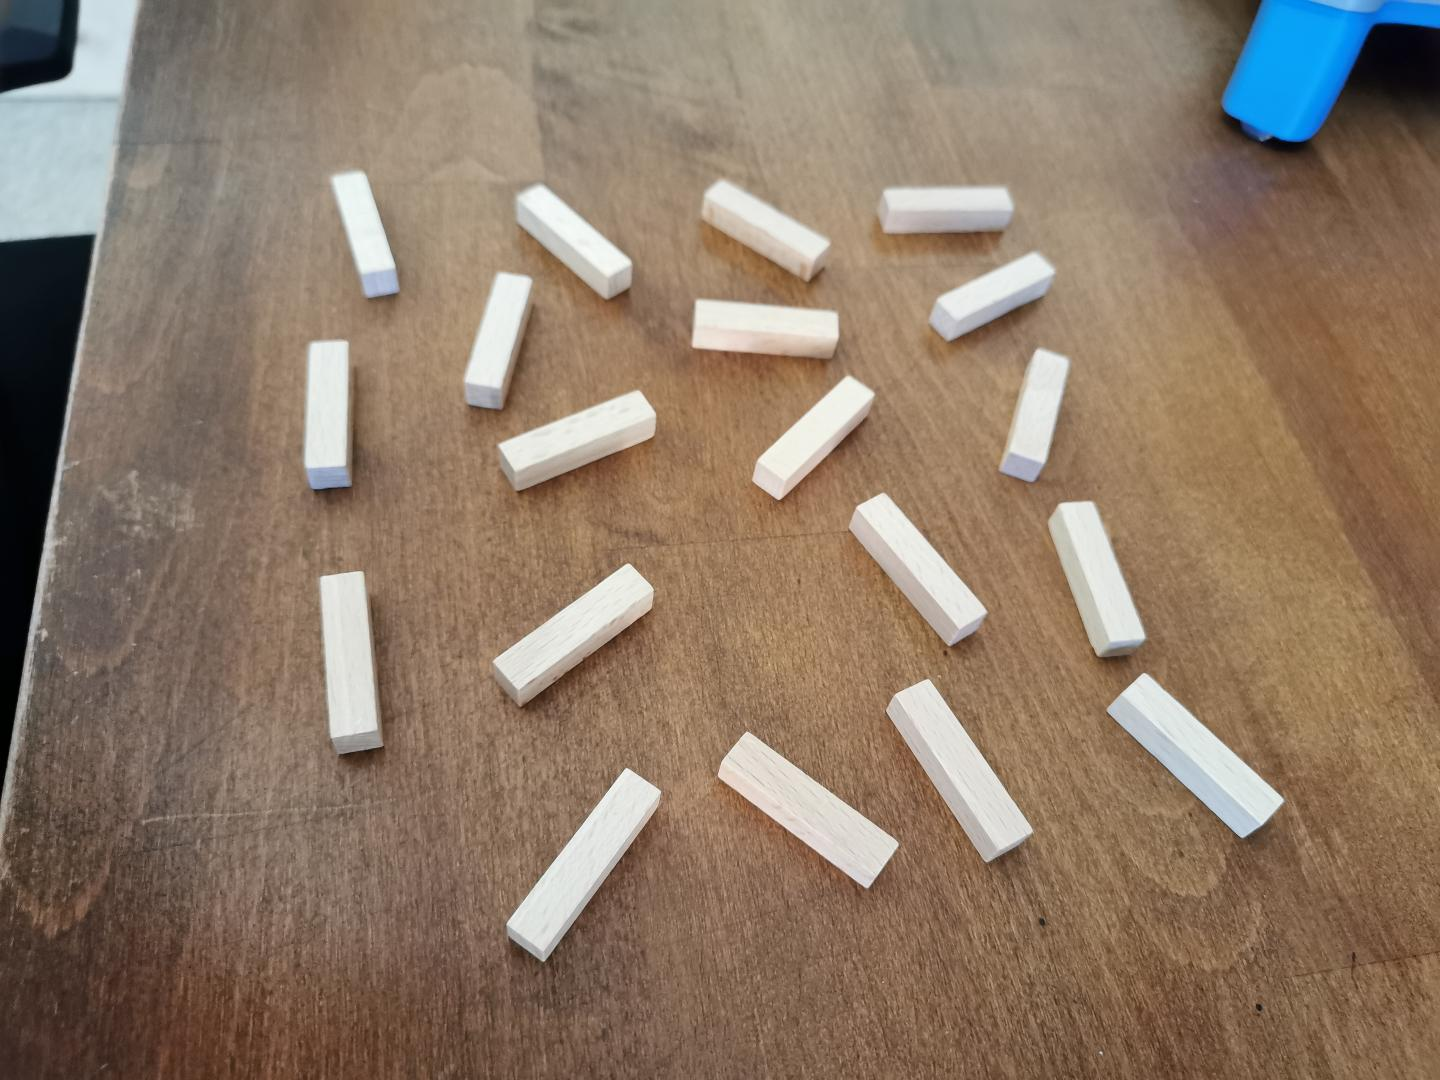jenga: (506, 768, 661, 962), (1108, 675, 1282, 838), (718, 734, 897, 886), (886, 681, 1032, 861), (492, 565, 652, 706), (849, 492, 988, 644), (498, 391, 655, 489), (1049, 500, 1145, 656), (754, 377, 874, 498), (515, 183, 633, 298), (701, 180, 830, 281), (321, 571, 382, 753), (931, 253, 1054, 340), (464, 272, 532, 411), (999, 348, 1069, 481), (692, 298, 838, 360), (332, 171, 399, 298), (304, 340, 351, 489), (878, 186, 1013, 234)
